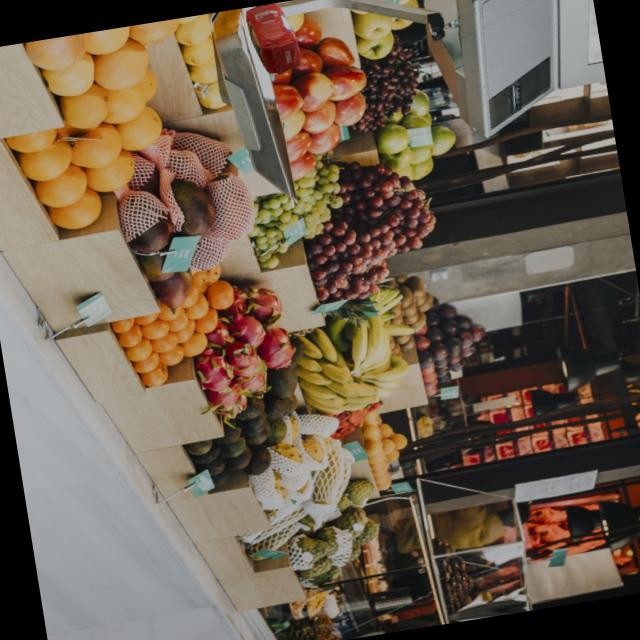mate bag: (240, 0, 309, 80)
